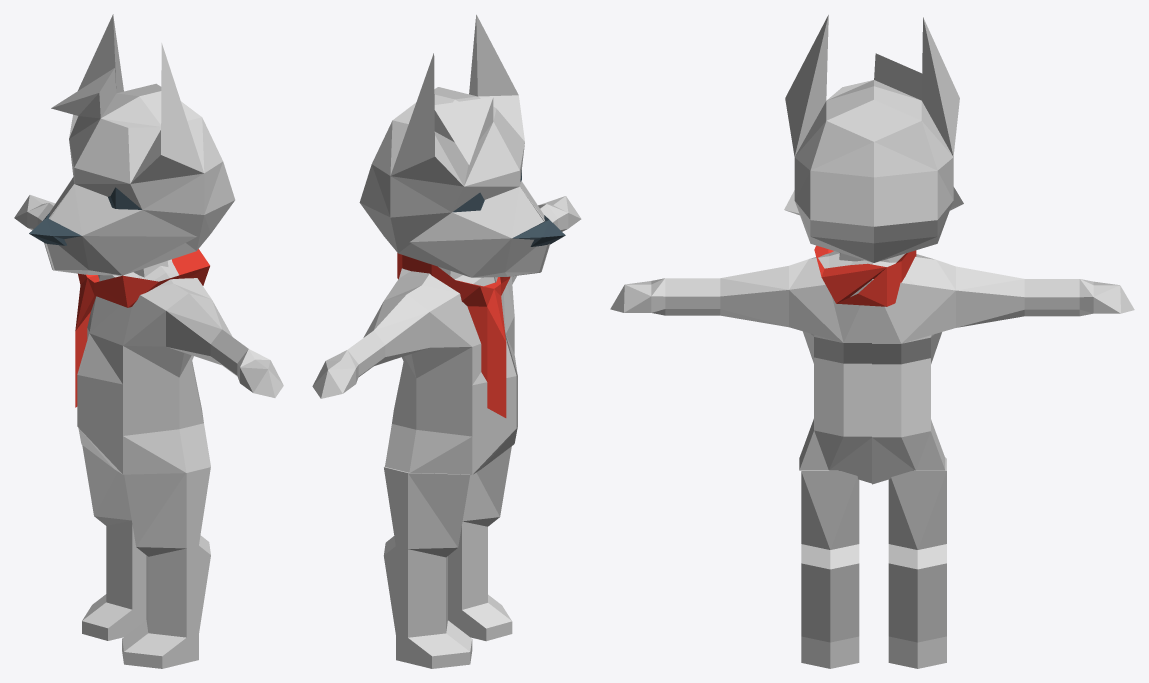
File: scene_eHf767Ep86.glb
3 renders of one model, left to right at view 1: azimuth 30°, elevation 25°; view 2: azimuth 150°, elevation 25°; view 3: azimuth 270°, elevation 25°, orthographic. The views are drawn at different scales.
Visible parts, largest first — view 1: group84206821, group1781902587, group118690405, group1102504253; view 2: group84206821, group1781902587, group118690405; view 3: group84206821, group1781902587.
Boxes of the visible parts, x1,y1,x2,y2 form: group84206821: (14,14,283,668); group1781902587: (75,249,209,407); group118690405: (29,213,81,245); group1102504253: (108,187,141,209); group84206821: (312,14,581,668); group1781902587: (397,253,510,417); group118690405: (512,215,565,246); group84206821: (610,15,1134,668); group1781902587: (814,245,916,306).
Size of the model in its own units: 0.1558 by 0.4821 by 0.3601.
